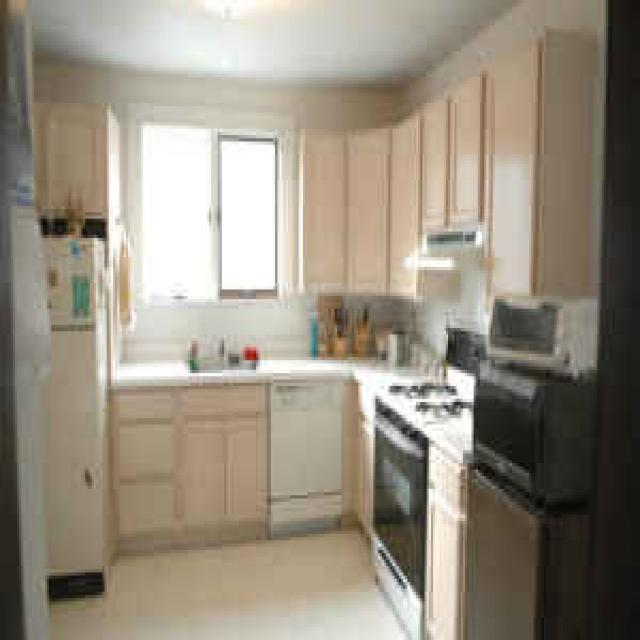2001: (139, 122, 213, 299), (218, 129, 279, 302)
2005: (119, 100, 299, 338)
cabinets: (303, 23, 599, 299)
ceiling beam: (26, 0, 516, 87)
floor -X: (49, 524, 410, 637)
kitchen cupboards: (107, 383, 267, 553)
microwave oven: (469, 357, 595, 505)
oven cloth: (369, 376, 469, 634)
washing machine crop: (267, 370, 343, 544)
